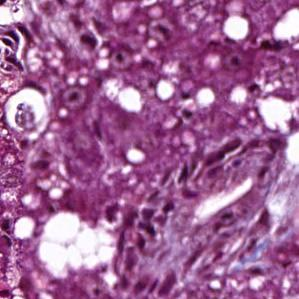ballooning: (36, 211, 121, 280), (2, 85, 52, 142)
